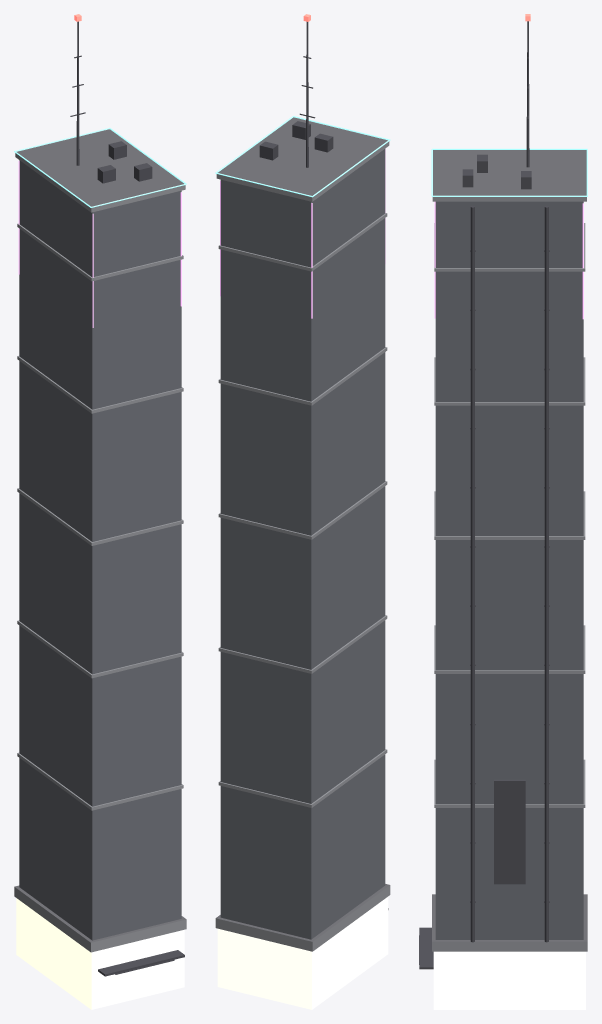
The model's file is r1014_slab.glb.
3 renders of one model, left to right at view 1: azimuth 30°, elevation 25°; view 2: azimuth 150°, elevation 25°; view 3: azimuth 270°, elevation 25°, orthographic.
Visible parts, largest first — view 1: r1014_slab; view 2: r1014_slab; view 3: r1014_slab.
Boxes of the visible parts, left/top/right/bottom form: r1014_slab: left=14, top=14, right=186, bottom=1009; r1014_slab: left=215, top=14, right=390, bottom=1009; r1014_slab: left=419, top=14, right=587, bottom=1009.
Bounding box in the file's own units: 10.48 × 97.88 × 15.51.
